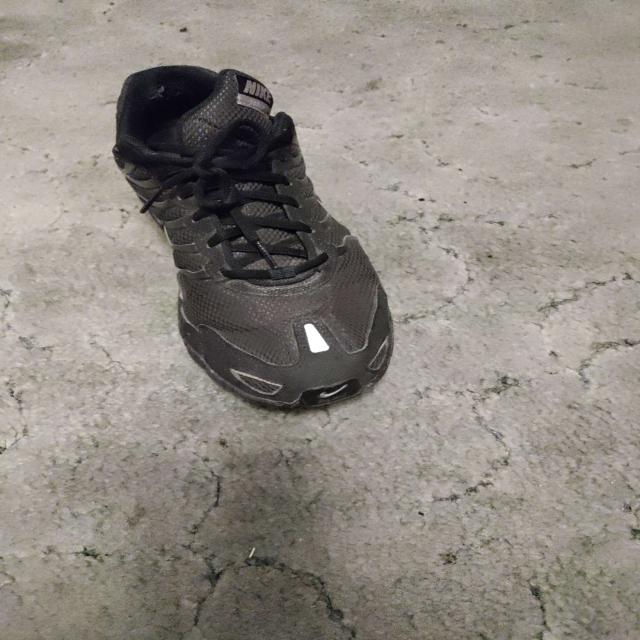shoe: (112, 63, 394, 410)
